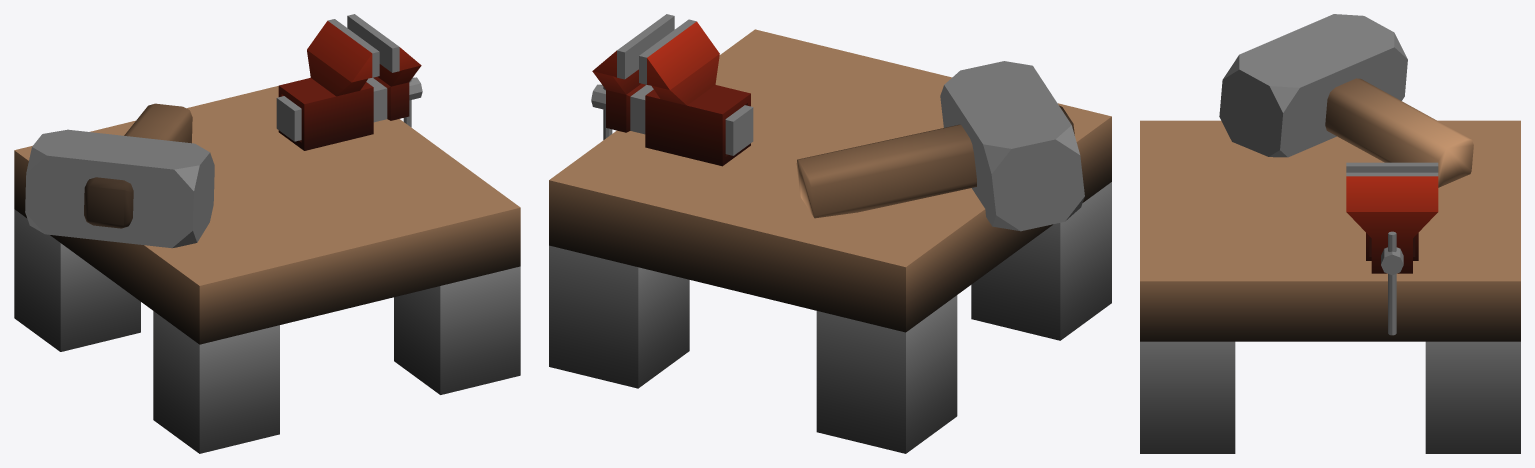
The model's file is bancada.fbx.
3 views of the same model, side by side, from view 1: azimuth 30°, elevation 25°; view 2: azimuth 150°, elevation 25°; view 3: azimuth 270°, elevation 25° (orthographic). The views are drawn at different scales.
Visible parts, largest first — view 1: bancada, marreta, morsa; view 2: bancada, marreta, morsa; view 3: bancada, marreta, morsa.
Boxes of the visible parts, x1,y1,x2,y2 form: bancada: (14,86,520,453); marreta: (25,103,214,248); morsa: (276,14,422,150); bancada: (549,29,1111,453); marreta: (796,61,1084,231); morsa: (591,14,753,166); bancada: (1140,120,1520,453); marreta: (1219,14,1473,187); morsa: (1346,162,1438,335).
Size of the model in its own units: 129 by 77.5 by 100.
